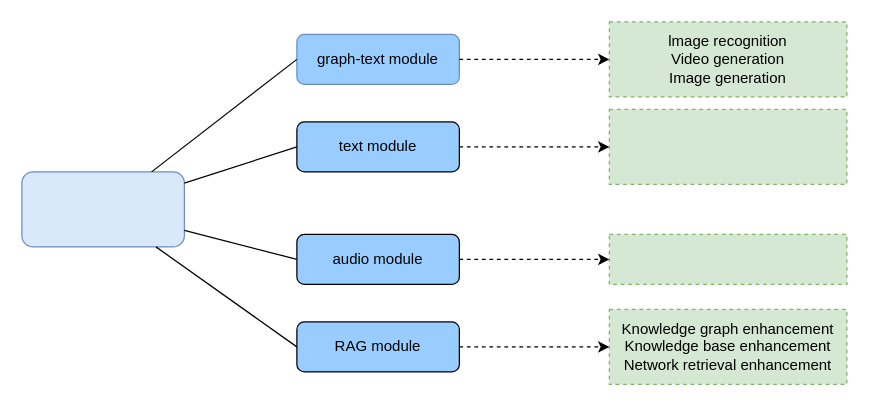
Image size: 869x406. Some labels were removed from this diagram. The centre of each missing label's shape, as x and y in pixels:
AI-doctor (LLM in medicine): the point at 102,209
ppt/word generation Multiple rounds of dialogue Search enhanced dialogue: the point at 727,146
Voice input Voice output: the point at 727,258
